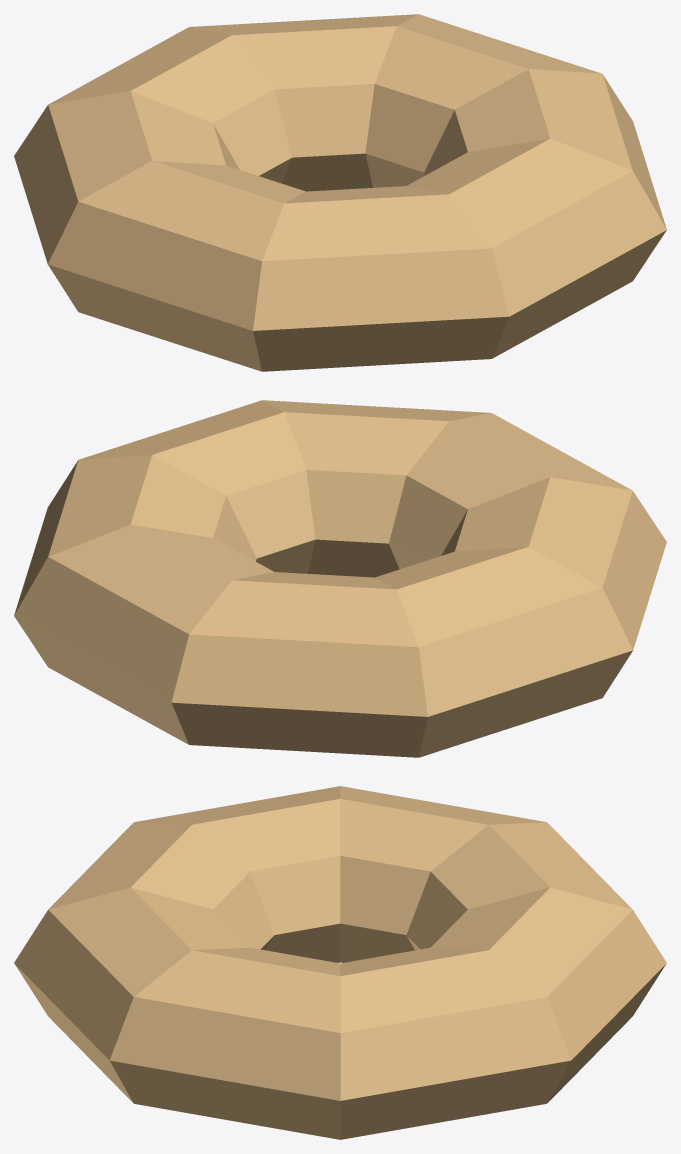
The model's file is blank_donut.fbx.
3 renders of one model, top to bottom at view 1: azimuth 30°, elevation 25°; view 2: azimuth 150°, elevation 25°; view 3: azimuth 270°, elevation 25°, orthographic. The views are drawn at different scales.
Parts seen in each view (by area): view 1: Blank_Donut; view 2: Blank_Donut; view 3: Blank_Donut.
Boxes of the visible parts, bbox=[...] form: Blank_Donut: bbox=[14, 14, 666, 371]; Blank_Donut: bbox=[14, 400, 666, 757]; Blank_Donut: bbox=[14, 786, 666, 1139].
Bounding box in the file's own units: 2.8 × 0.7145 × 2.8.
